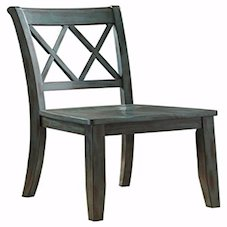chair: (4, 5, 221, 221)
